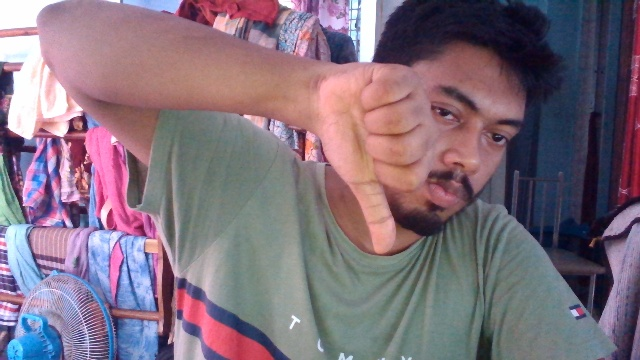no: (299, 52, 440, 256)
